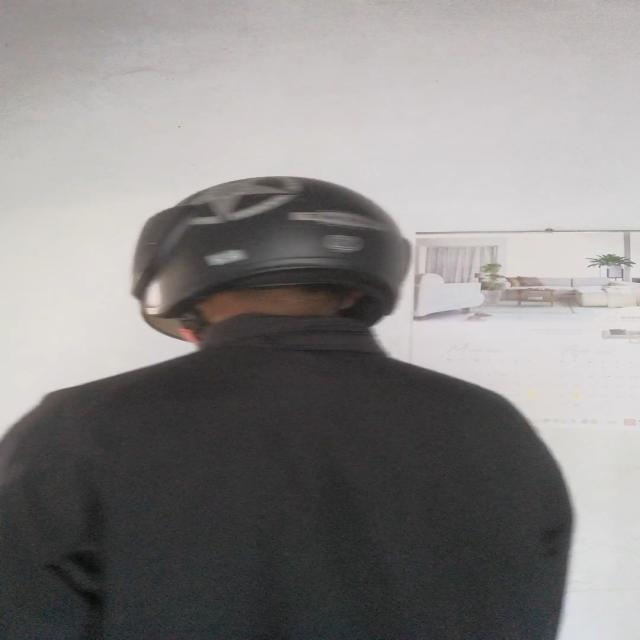Helmet_Wearer: (128, 171, 422, 371)
Jacket_Wearer: (8, 290, 588, 640)
Person: (6, 171, 590, 640)
